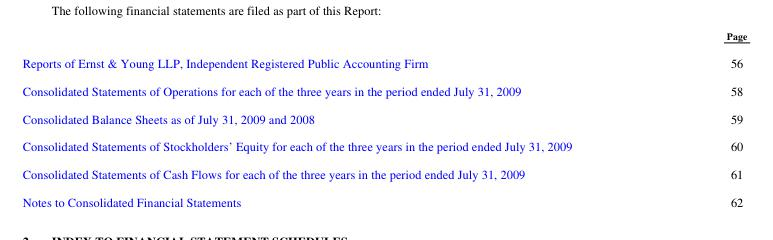table: (21, 29, 746, 209)
table column: (21, 29, 648, 209), (648, 29, 746, 209)
table column header: (21, 29, 746, 48)
table row: (21, 48, 746, 76), (21, 76, 746, 104), (21, 131, 746, 159), (21, 159, 746, 187), (21, 104, 746, 131), (21, 187, 746, 209), (21, 29, 746, 48)
